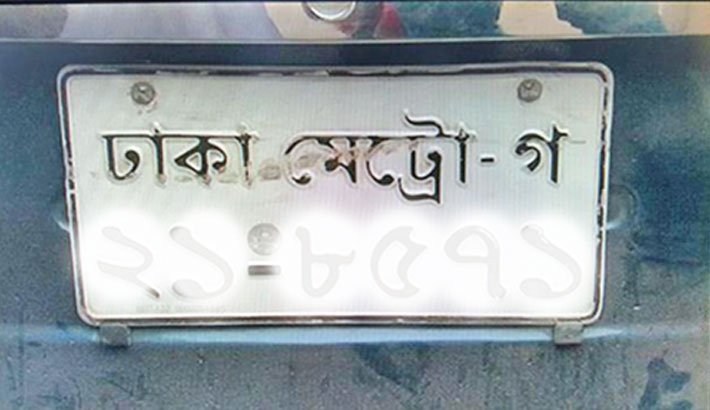registration_plate: (54, 62, 615, 330)
